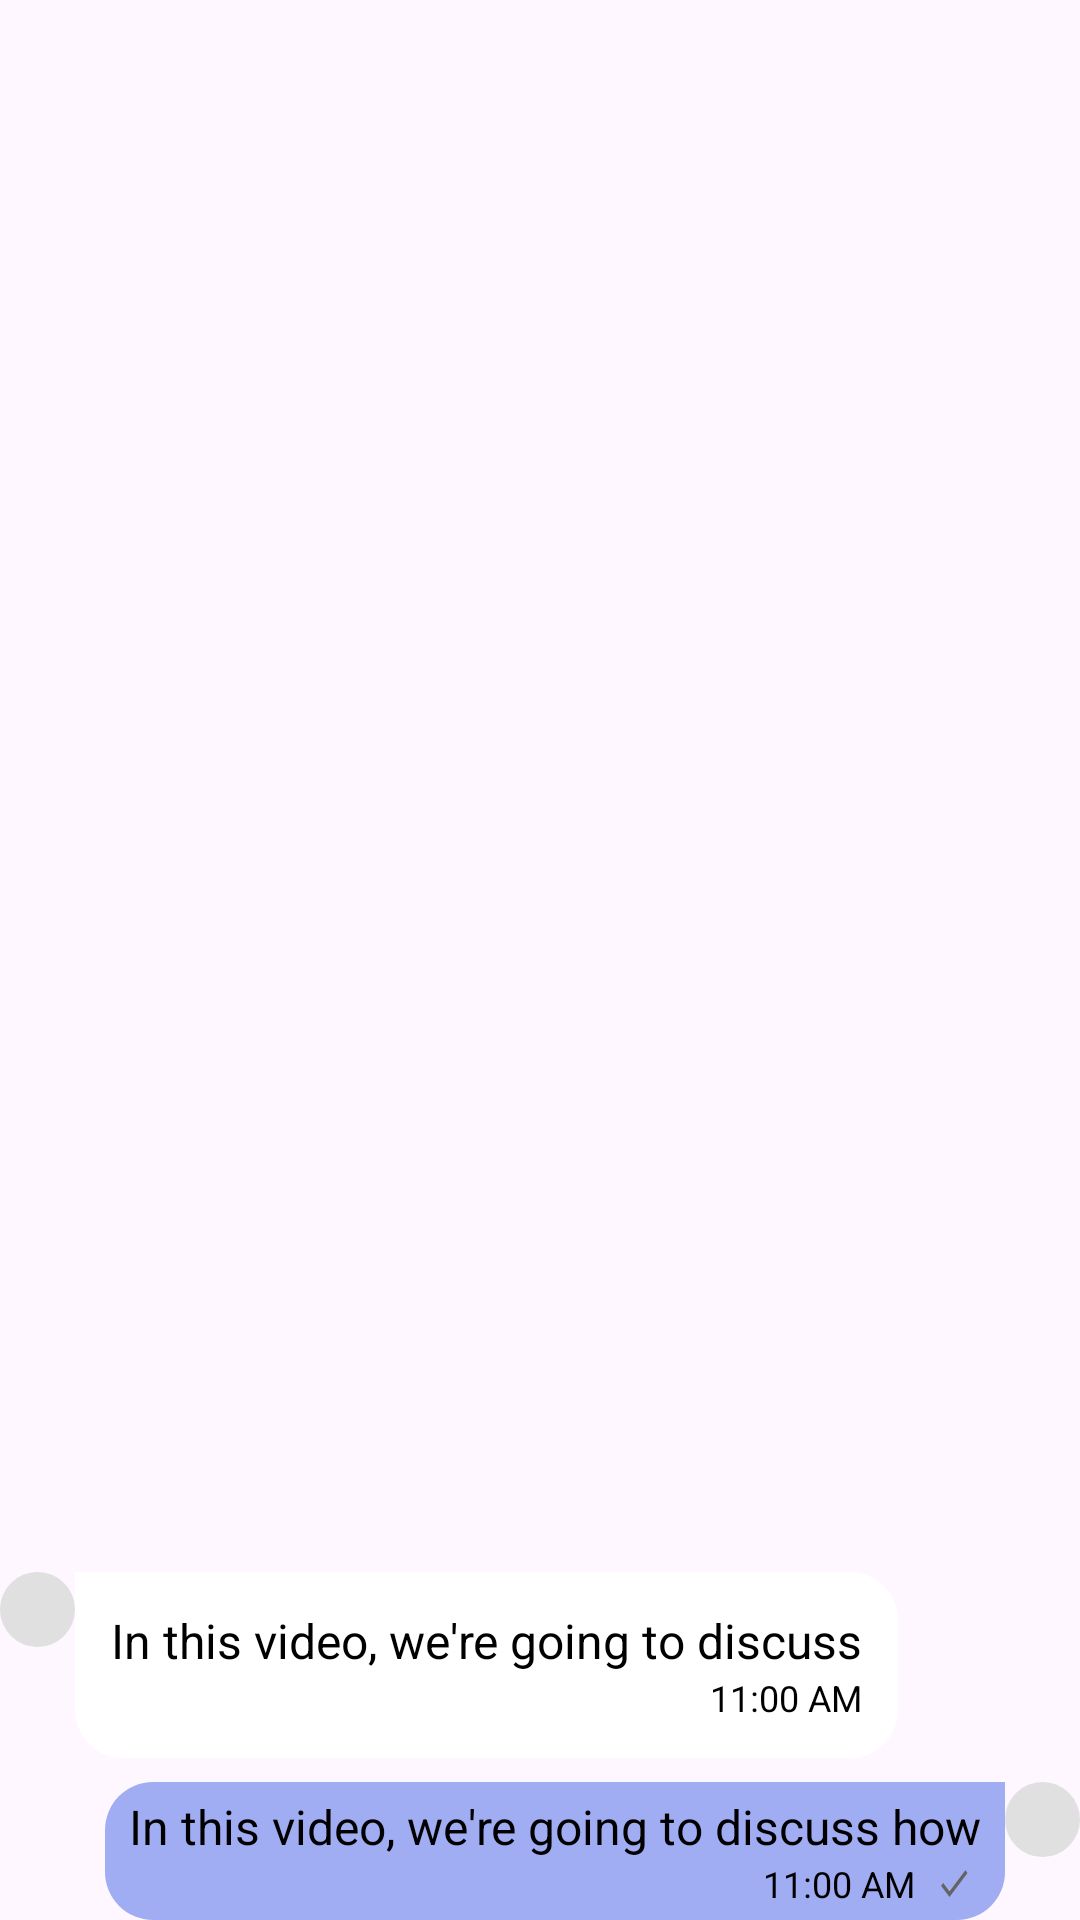

Named icons in this screenshot (1080px×1920px) and their centers, [x,y]:
done: [954,1883]
